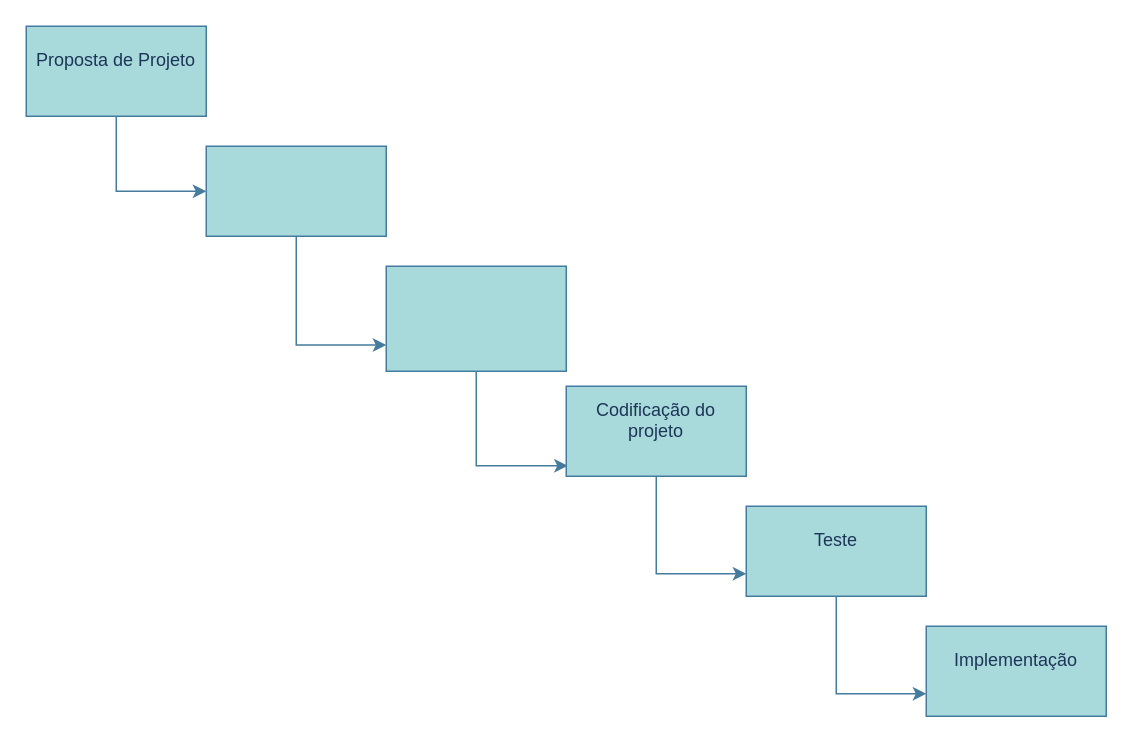
Image size: 1133x743. Some labels were removed from this diagram. Here are the shapes that lost their labels. From the top down, the centre of each, then its label:
At point 295,190: "Pré-Projeto".
At point 475,318: "Análise".
